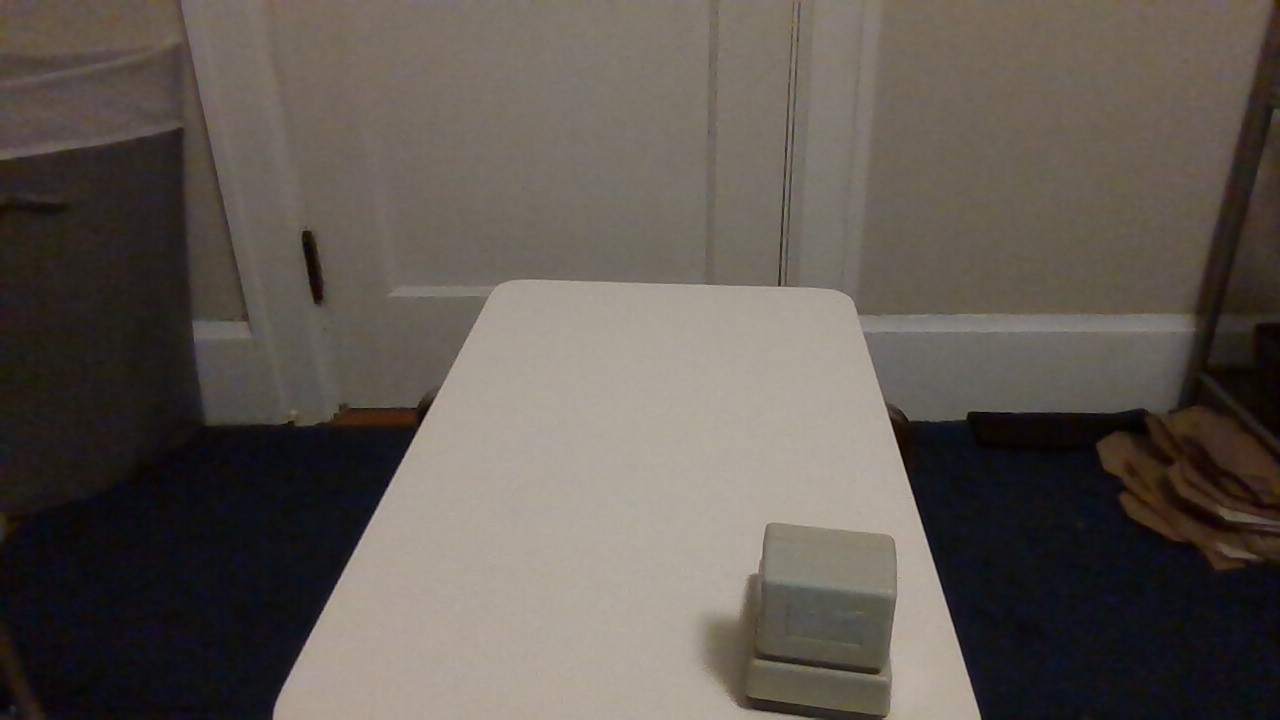Toy: (730, 498, 928, 720)
